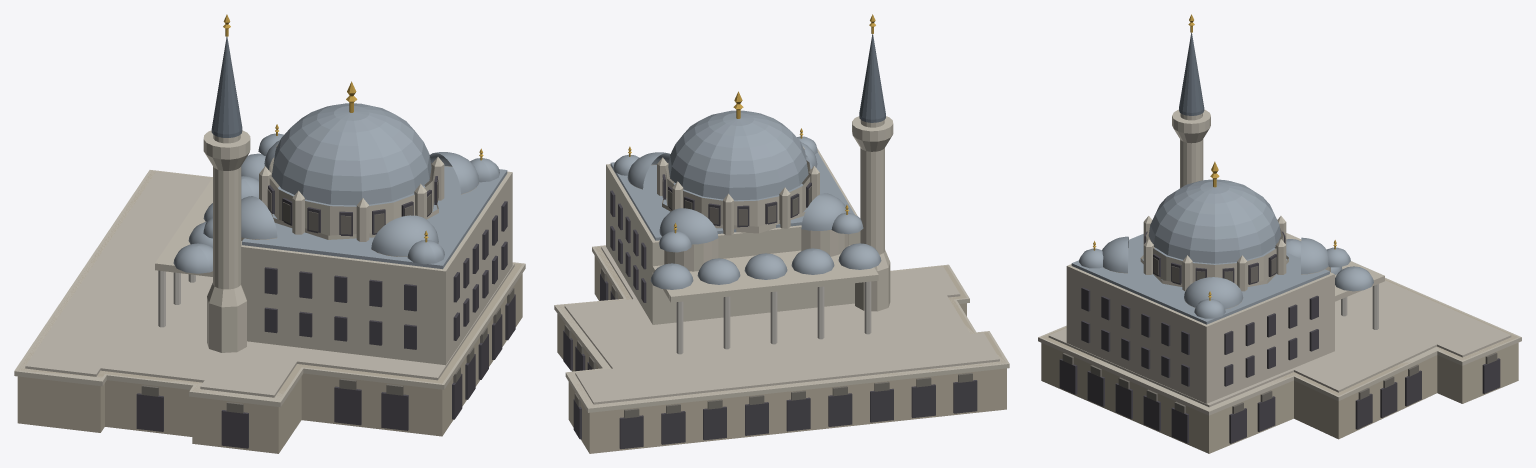
The model's file is rustempasa.web.glb.
3 views of the same model, side by side, from view 1: azimuth 30°, elevation 25°; view 2: azimuth 150°, elevation 25°; view 3: azimuth 270°, elevation 25° (orthographic). The views are drawn at different scales.
Parts seen in each view (by area): view 1: podium, hall, dome, minaret, small, portico; view 2: podium, dome, hall, portico, small, minaret; view 3: podium, hall, dome, small, minaret, portico.
Boxes of the visible parts, x1,y1,x2,y2 form: podium: (14, 170, 525, 453); hall: (241, 165, 512, 365); dome: (259, 81, 444, 241); minaret: (203, 14, 250, 352); small: (203, 124, 499, 264); portico: (155, 153, 265, 327); podium: (554, 245, 1009, 453); dome: (657, 91, 819, 235); hall: (606, 148, 860, 324); portico: (650, 243, 881, 354); small: (613, 128, 863, 271); minaret: (852, 14, 893, 311); podium: (1038, 278, 1521, 453); hall: (1066, 234, 1334, 403); dome: (1140, 161, 1288, 291); small: (1079, 236, 1350, 318); minaret: (1172, 14, 1210, 188); portico: (1286, 233, 1384, 329).
Size of what is drawn, in the model's own units: 53.73 by 40.11 by 55.44.
